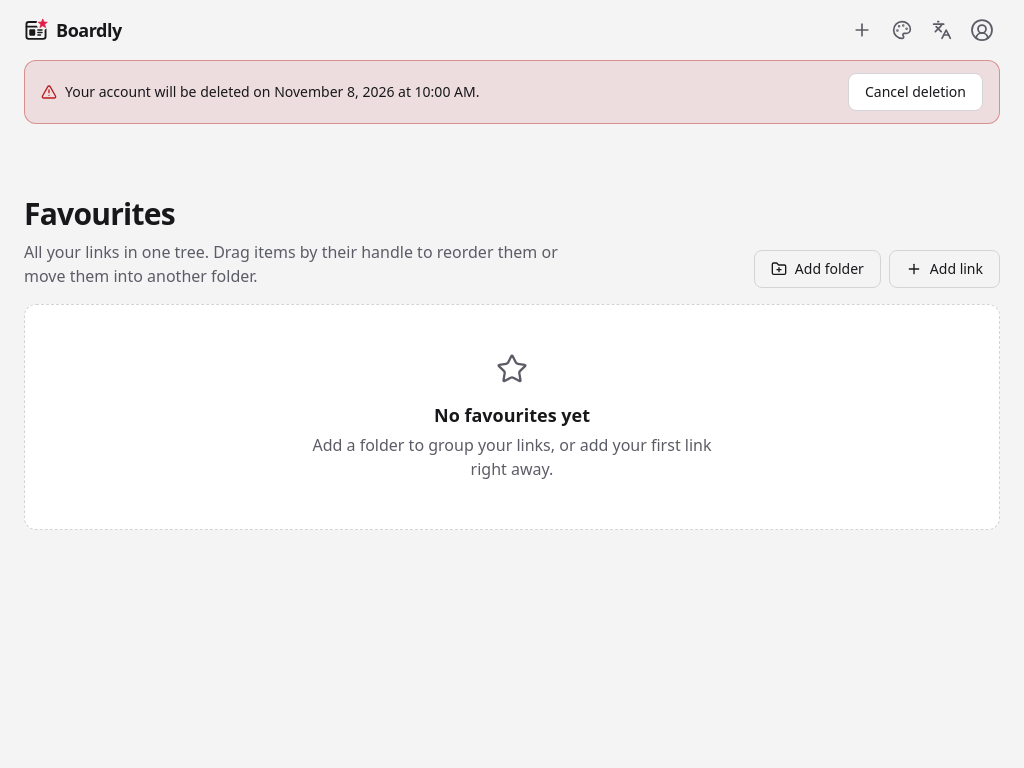
Test: deletion banner › shows the date on every page and cancels the deletion
The image size is (1024, 768).
Expected: the text "Your account will be deleted on November 8, 2026" is shown, [65,82,479,101]
What coordinates should you click on to do the following:
click the button "Cancel deletion"
I would click on:
 (916, 92)
Its box is [848,73,983,111].
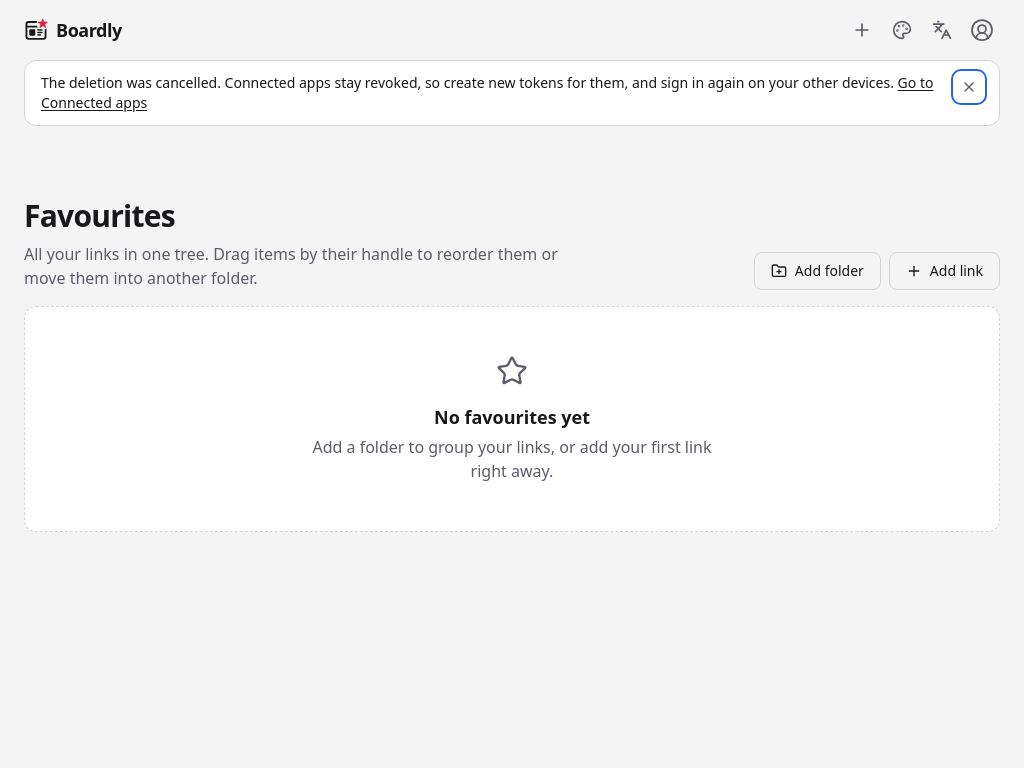
Expected: the text "Connected apps stay revoked" is shown, [41,73,894,92]
Expected: the button "Cancel deletion" is gone
What coordinates should you click on to do the following:
click the button named "Close"
I would click on:
 (969, 87)
Its box is [955,73,983,101].
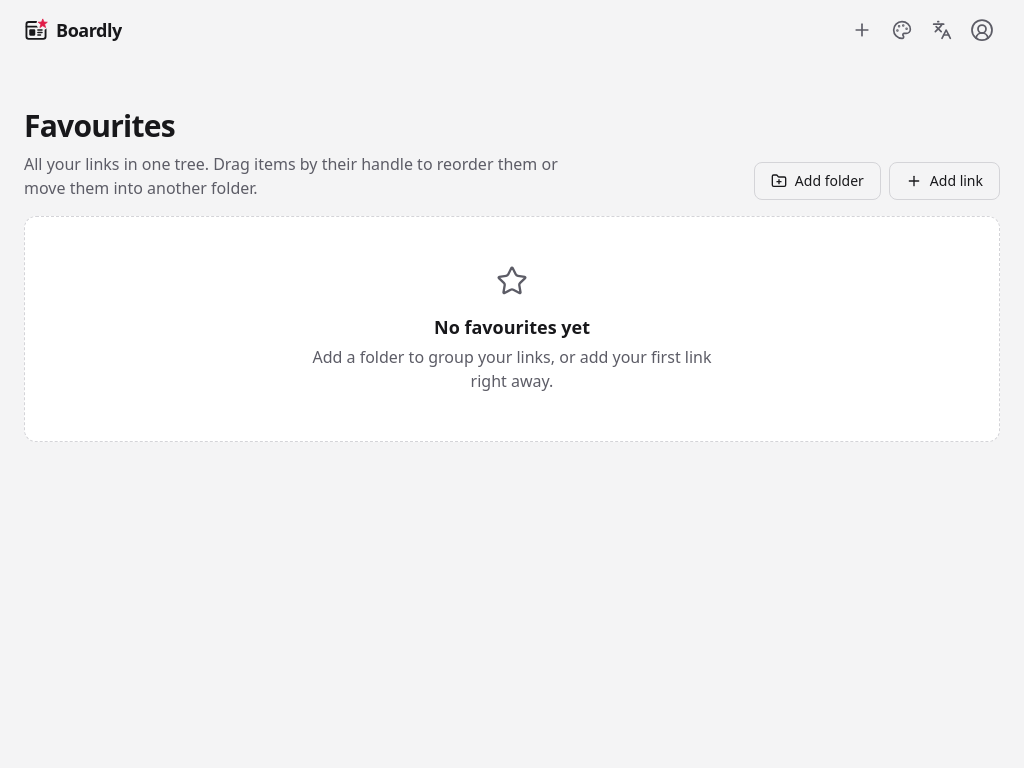
Expected: the text "Connected apps stay revoked" is gone
